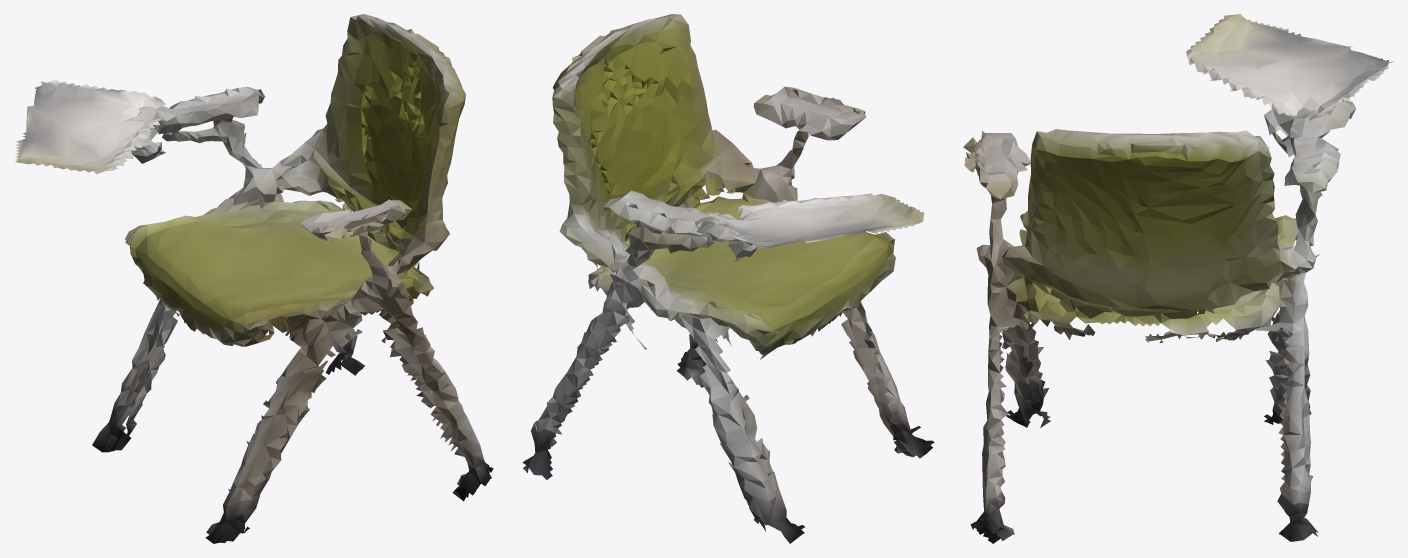
The model's file is chair_1r.glb.
3 views of the same model, side by side, from view 1: azimuth 30°, elevation 25°; view 2: azimuth 150°, elevation 25°; view 3: azimuth 270°, elevation 25° (orthographic). The views are drawn at different scales.
Visible parts, largest first — view 1: part_0_aligned, part_1_aligned; view 2: part_0_aligned, part_1_aligned; view 3: part_0_aligned, part_1_aligned.
Boxes of the visible parts, x1,y1,x2,y2 form: part_0_aligned: (92,14,493,543); part_1_aligned: (15,80,165,174); part_0_aligned: (522,14,934,543); part_1_aligned: (705,193,924,249); part_0_aligned: (963,100,1355,543); part_1_aligned: (1186,14,1393,120).
Bounding box in the file's own units: 0.7227 × 0.7232 × 0.6652.
